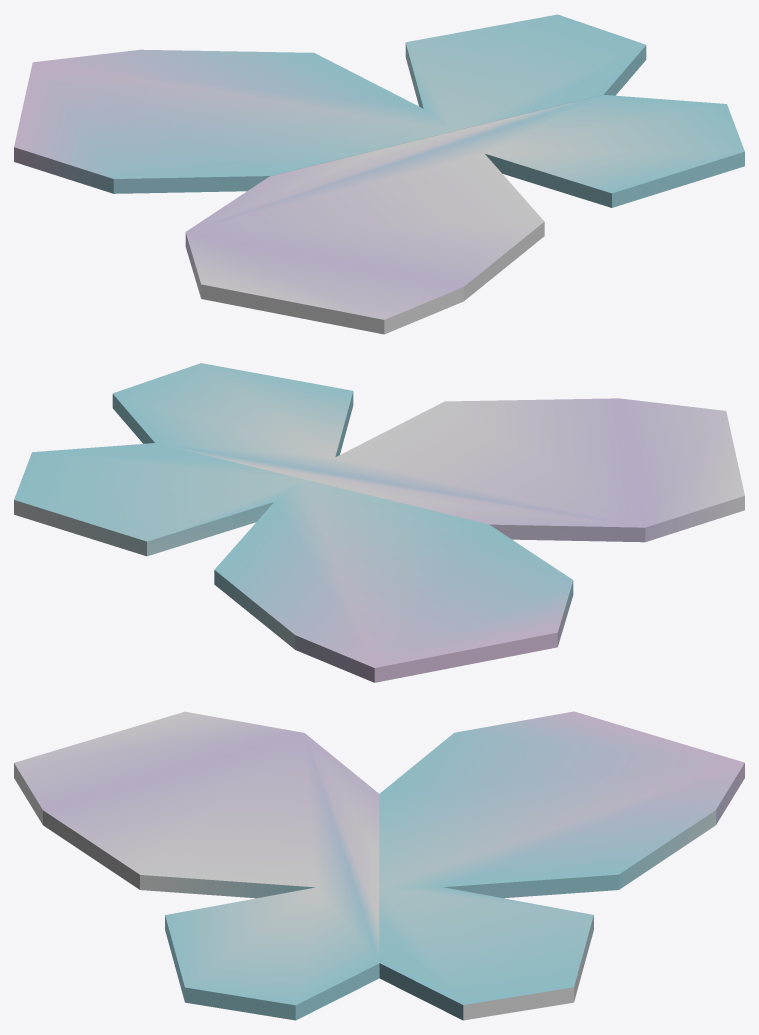
File: vc_butterfly_full_001.fbx
3 views of the same model, one above another, from view 1: azimuth 30°, elevation 25°; view 2: azimuth 150°, elevation 25°; view 3: azimuth 270°, elevation 25° (orthographic). The views are drawn at different scales.
Visible parts, largest first — view 1: Plane.001, Plane.000; view 2: Plane.000, Plane.001; view 3: Plane.000, Plane.001.
Part boxes in pixels (x1,y1,x2,y2): Plane.001: (185,95,744,334); Plane.000: (14,14,646,193); Plane.000: (14,443,573,682); Plane.001: (112,363,744,542); Plane.000: (379,711,744,1020); Plane.001: (14,711,379,1020).
Size of the model in its own units: 190 by 4.65 by 200.
